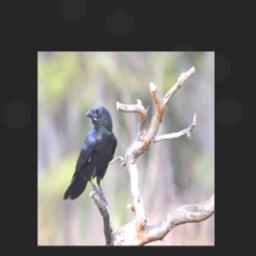Crow: (61, 104, 117, 204)
